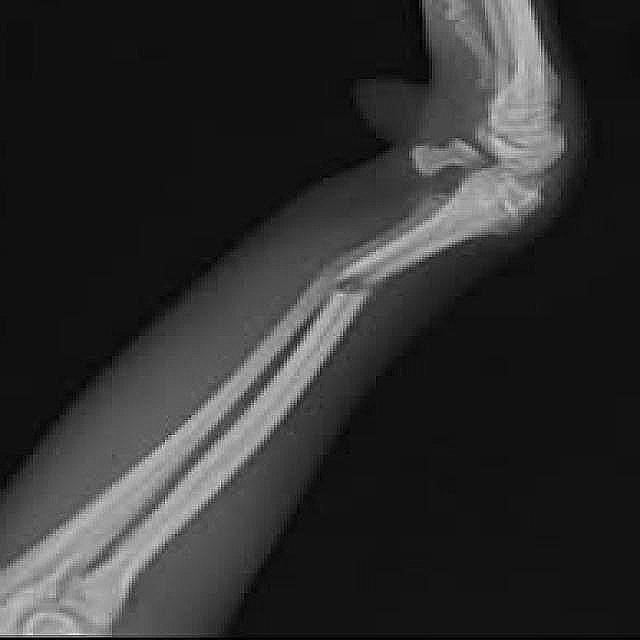bone: (306, 239, 411, 346)
